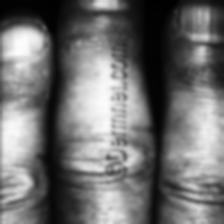Unclassified: (54, 138, 100, 170), (182, 165, 220, 201)
